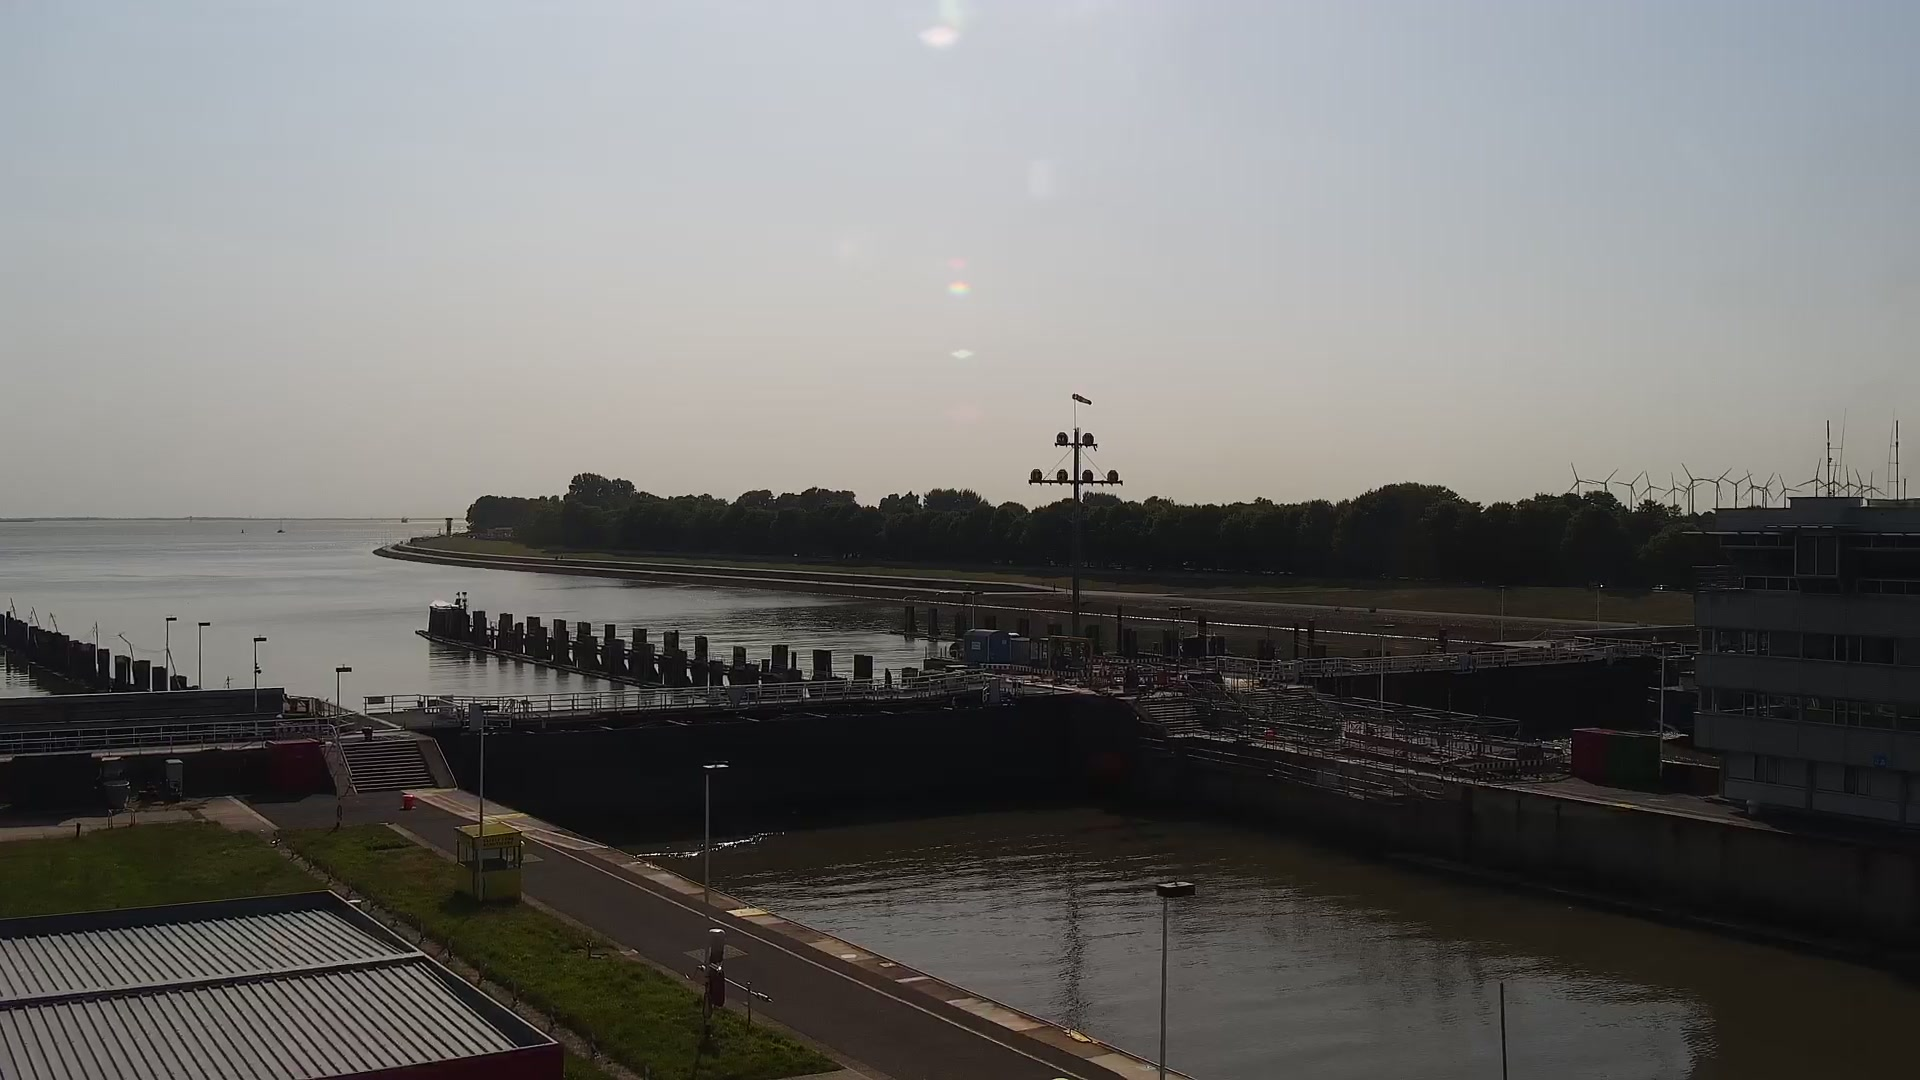land: (1650, 583, 1669, 591)
